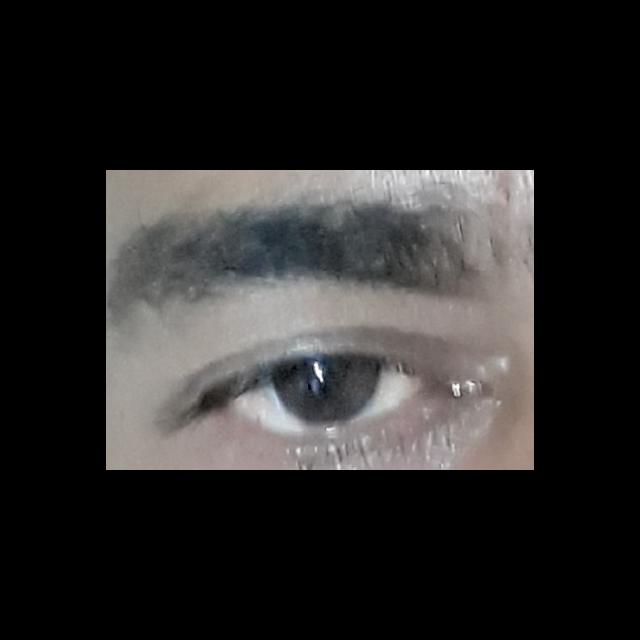eye: (231, 358, 427, 436)
iris: (270, 361, 383, 428)
